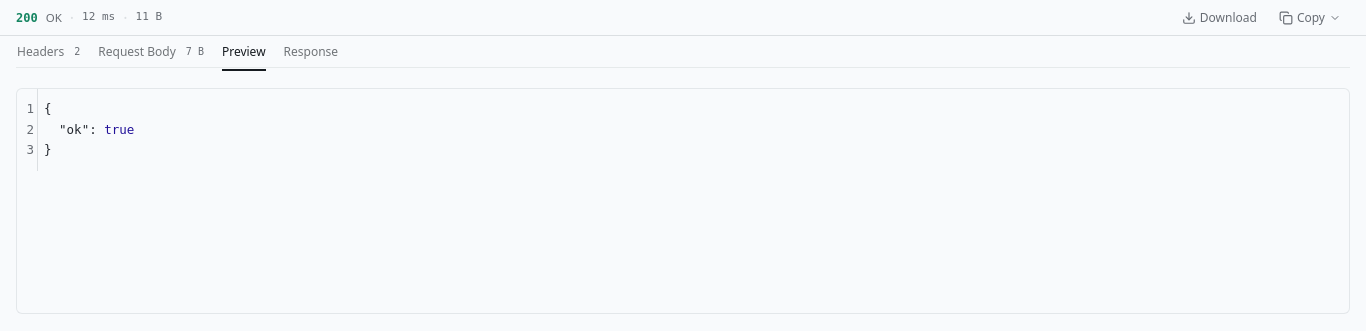
Test: ResponsePanel — tabs › switches panes when a tab is clicked
The width and height of the screenshot is (1366, 331).
Click the tab "Response". click: [311, 52]
box: [283,36,339,66]
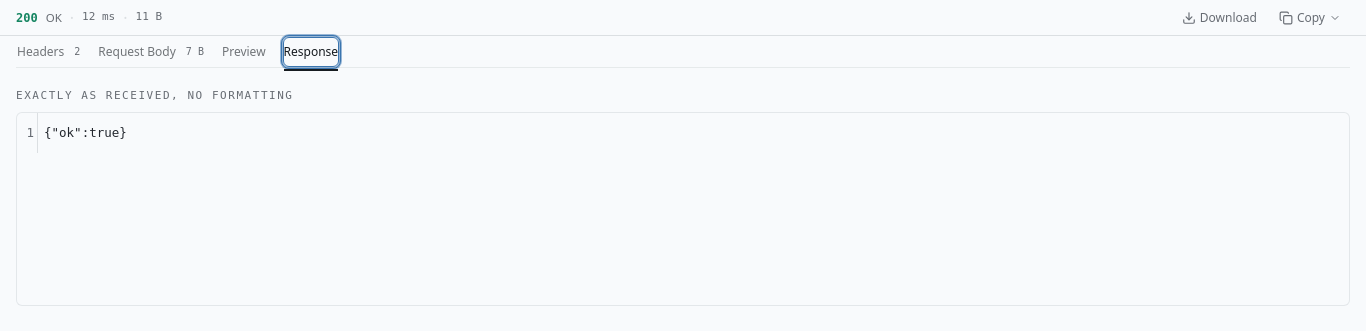
Now the text "Exactly as received, no formatting" is shown, box [16,89,294,102]
